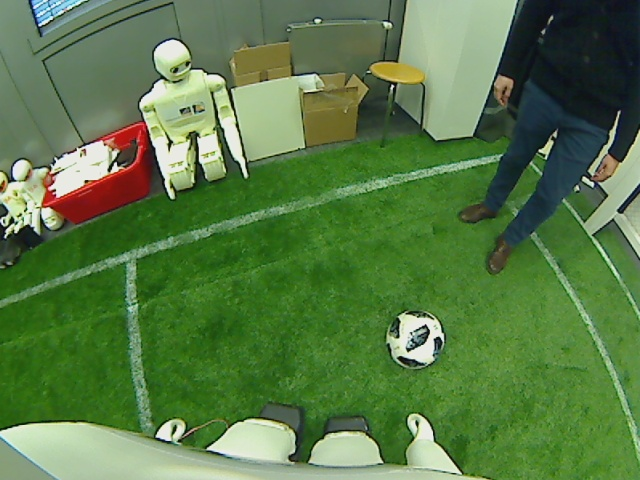ball: (384, 307, 447, 372)
